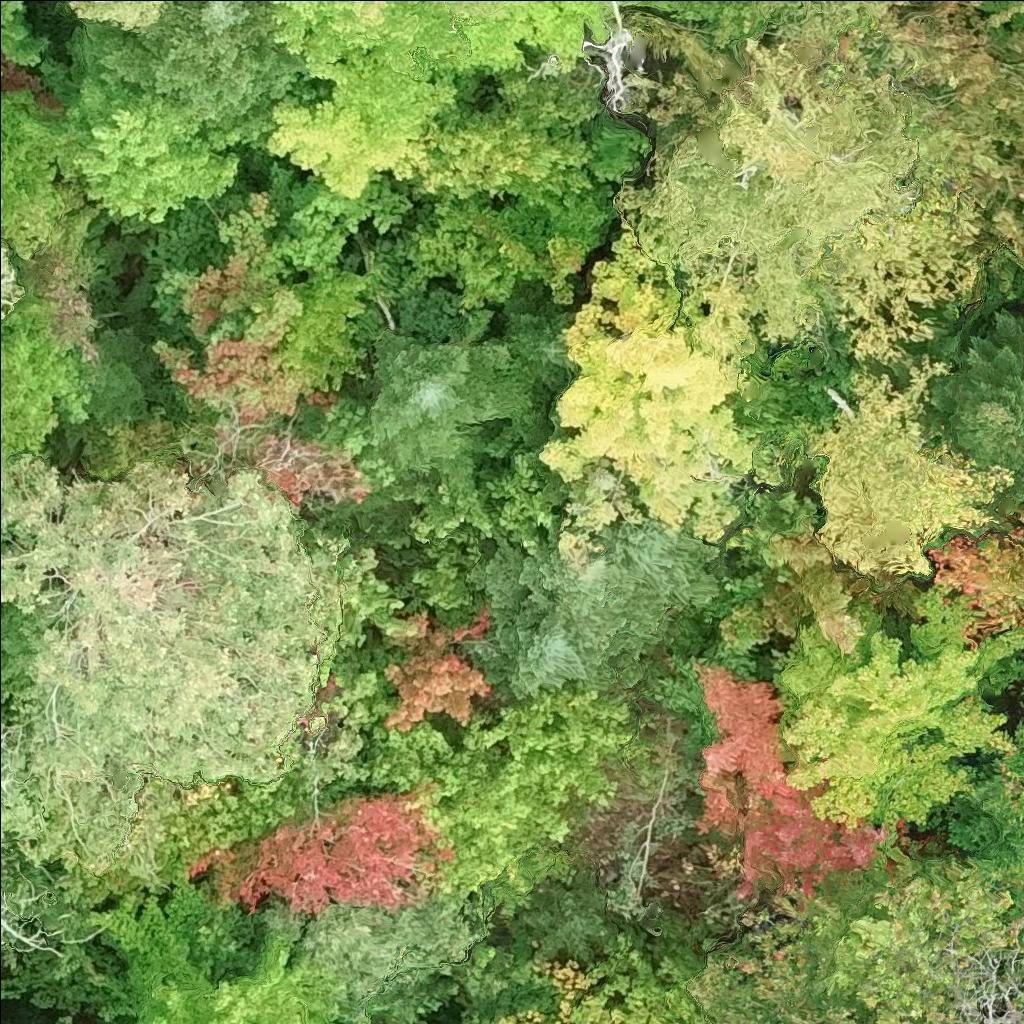crown: (0, 456, 322, 872), (540, 230, 779, 578), (784, 589, 1023, 828), (372, 684, 636, 897), (725, 844, 1015, 1023), (806, 357, 1014, 577), (393, 382, 584, 610), (81, 865, 355, 1023), (265, 0, 471, 197), (152, 250, 373, 431), (464, 514, 673, 685), (261, 877, 486, 1023), (198, 791, 452, 913), (98, 0, 321, 126), (54, 72, 236, 223), (372, 330, 531, 494), (720, 769, 889, 905), (501, 928, 710, 1023), (925, 304, 1023, 489), (950, 723, 1023, 965), (0, 70, 84, 262), (832, 559, 963, 669), (271, 173, 408, 275), (386, 609, 488, 733), (922, 511, 1023, 630), (587, 517, 720, 606), (695, 733, 800, 839), (139, 192, 241, 299), (692, 956, 847, 1023), (524, 868, 608, 962), (485, 626, 588, 699), (692, 664, 785, 737), (503, 311, 579, 391), (800, 572, 866, 660), (746, 0, 903, 32), (758, 571, 816, 638), (769, 530, 839, 582), (0, 729, 31, 846), (0, 0, 46, 65), (68, 0, 164, 31), (0, 247, 25, 324), (0, 892, 22, 958), (977, 0, 1023, 23), (434, 0, 508, 14), (992, 659, 1023, 688), (1022, 700, 1023, 706)
